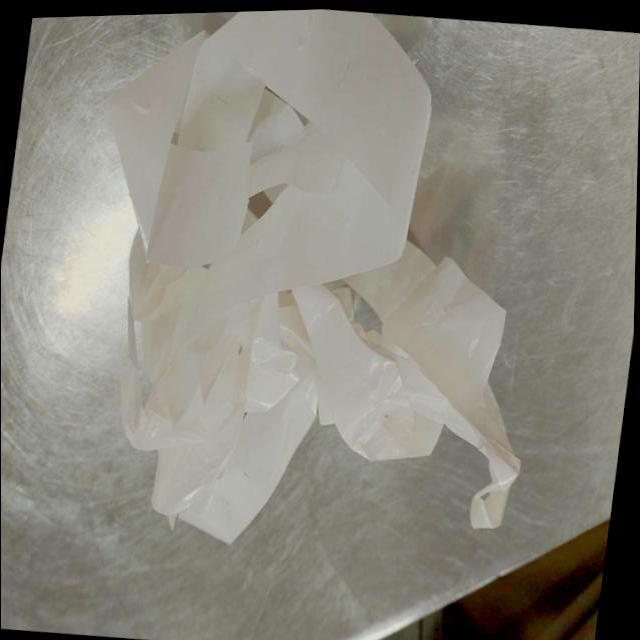Infectious: (105, 10, 522, 545)
